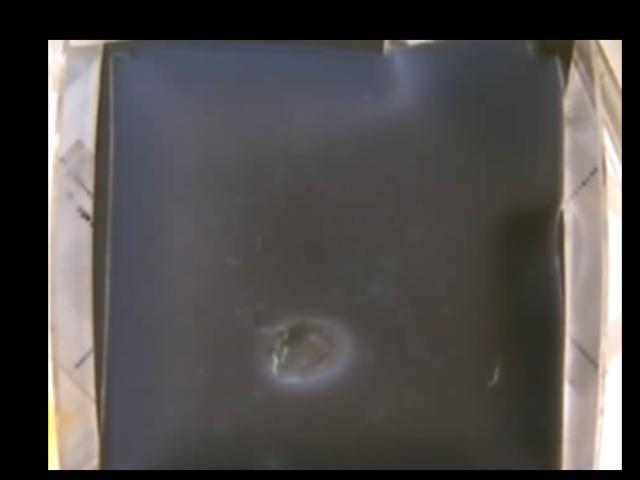Pebble: (266, 318, 350, 384)
